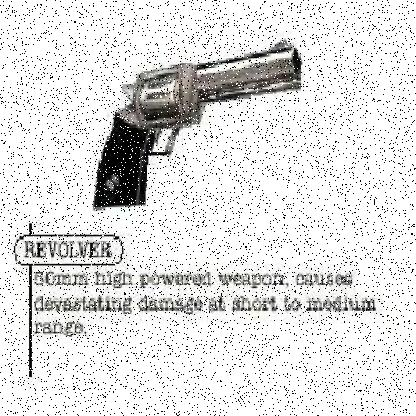pistol: (93, 39, 304, 209)
